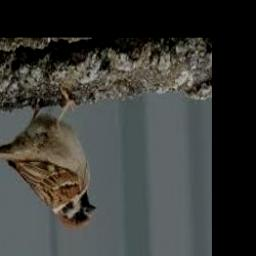Sparrow: (0, 90, 97, 229)
